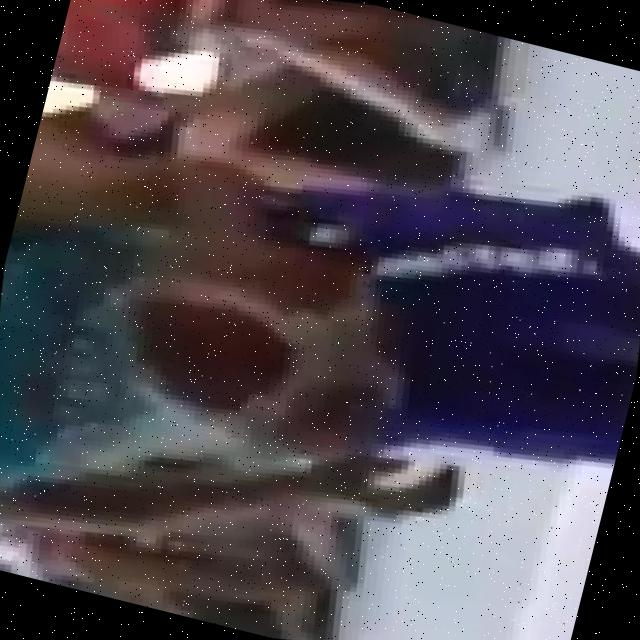ball: (68, 172, 470, 524)
